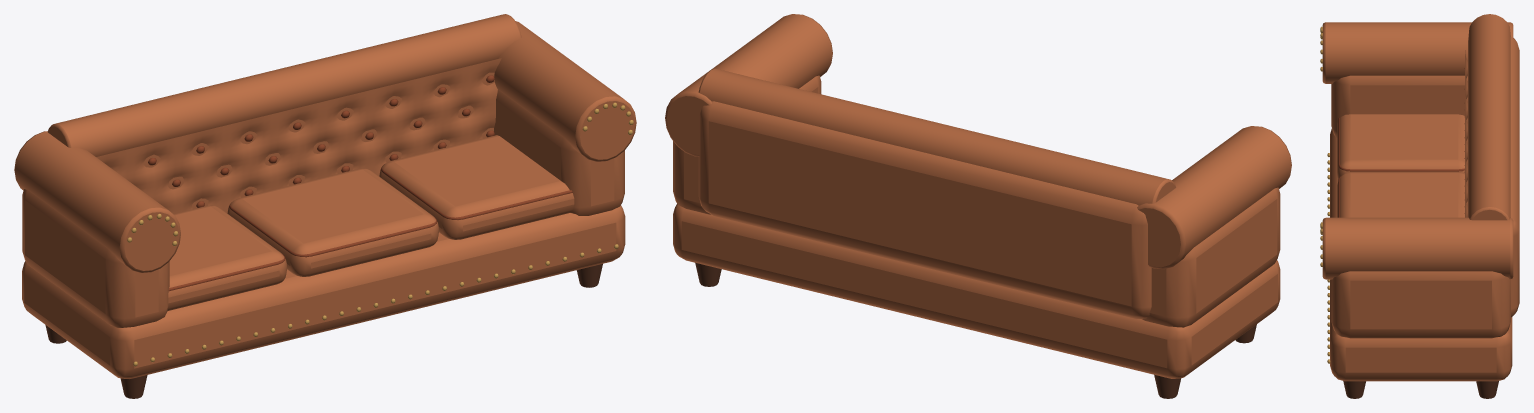
The model's file is chesterfield.glb.
3 renders of one model, left to right at view 1: azimuth 30°, elevation 25°; view 2: azimuth 150°, elevation 25°; view 3: azimuth 270°, elevation 25°, orthographic. The views are drawn at different scales.
Visible parts, largest first — view 1: Upholstered base, Cushion welt, Turned walnut leg, Arm nailhead; view 2: Upholstered base, Turned walnut leg; view 3: Upholstered base, Turned walnut leg, Cushion welt, Arm nailhead.
Part boxes in pixels (<box>): Upholstered base: <box>14,14,636,378</box>; Cushion welt: <box>148,75,572,291</box>; Turned walnut leg: <box>45,264,602,398</box>; Arm nailhead: <box>127,102,633,366</box>; Upholstered base: <box>665,14,1291,378</box>; Turned walnut leg: <box>695,262,1256,398</box>; Upholstered base: <box>1322,14,1519,381</box>; Turned walnut leg: <box>1343,381,1498,398</box>; Cushion welt: <box>1338,68,1464,217</box>; Arm nailhead: <box>1320,26,1330,363</box>.
Bounding box in the file's own units: 2.45 × 0.966 × 0.931.
